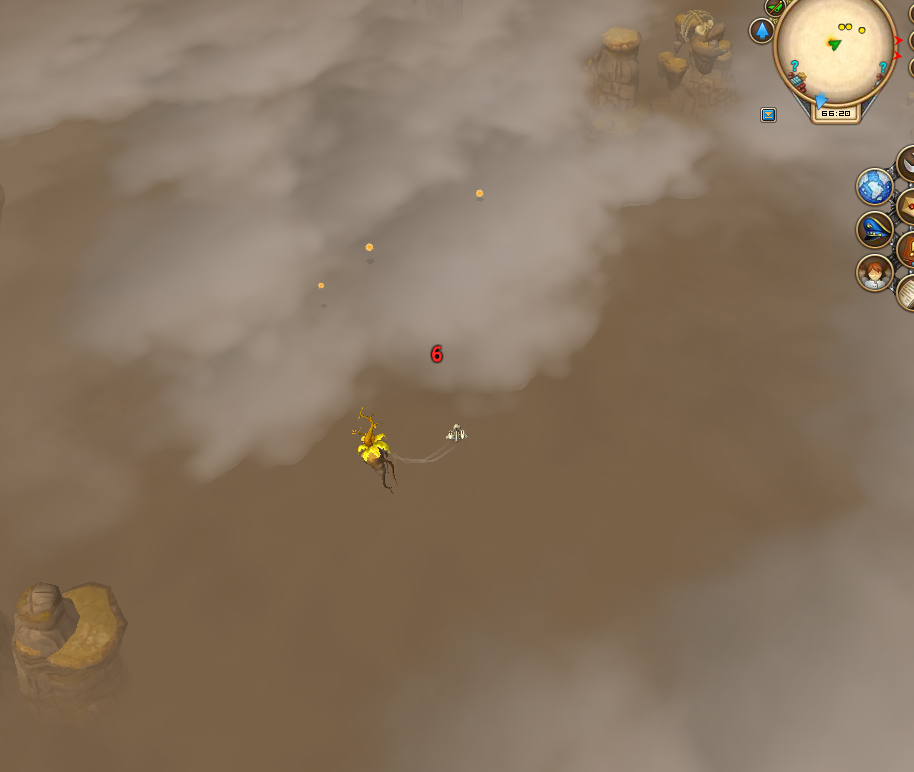dandelion-empty: (349, 400, 400, 487)
fluff: (472, 185, 485, 201), (363, 240, 375, 253), (316, 280, 327, 290)
